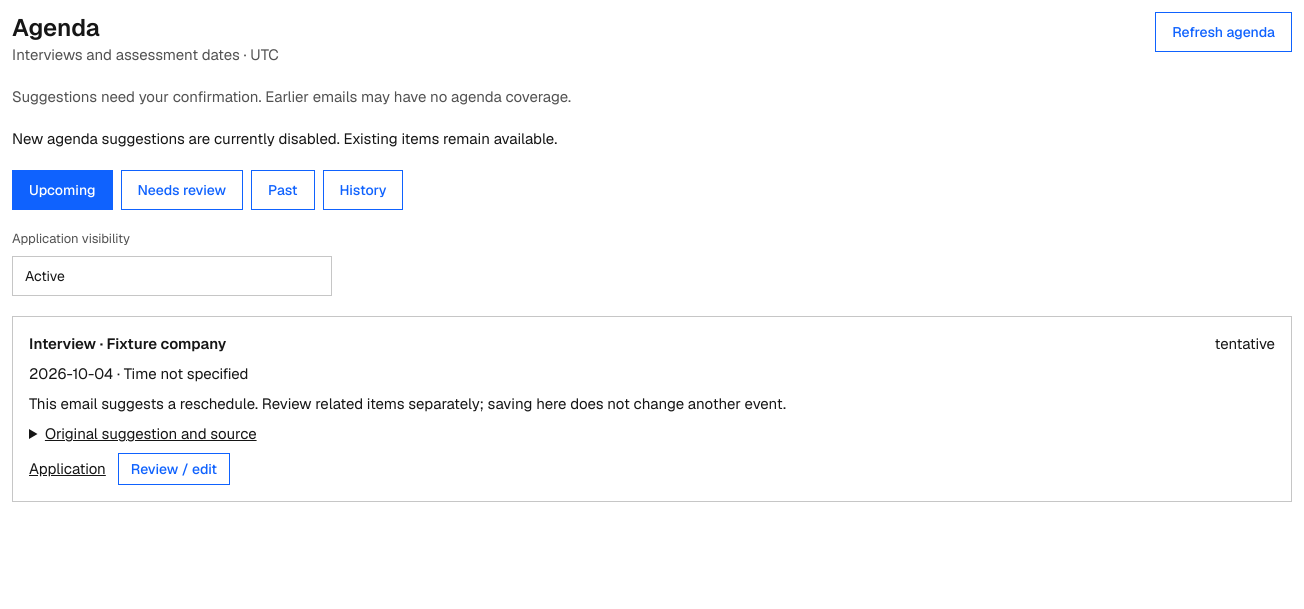
shows date precision, original evidence and separate reschedule intent
Check: the text "2026-10-04 · Time not specified" is shown, box [29,364,248,383]
Check: the text "New agenda suggestions are currently disabled" is shown, box [12,129,557,148]
What coordinates should you click on to do the following:
click the heading "Original suggestion and source"
I would click on:
 (151, 434)
Its box is [45,424,257,443].
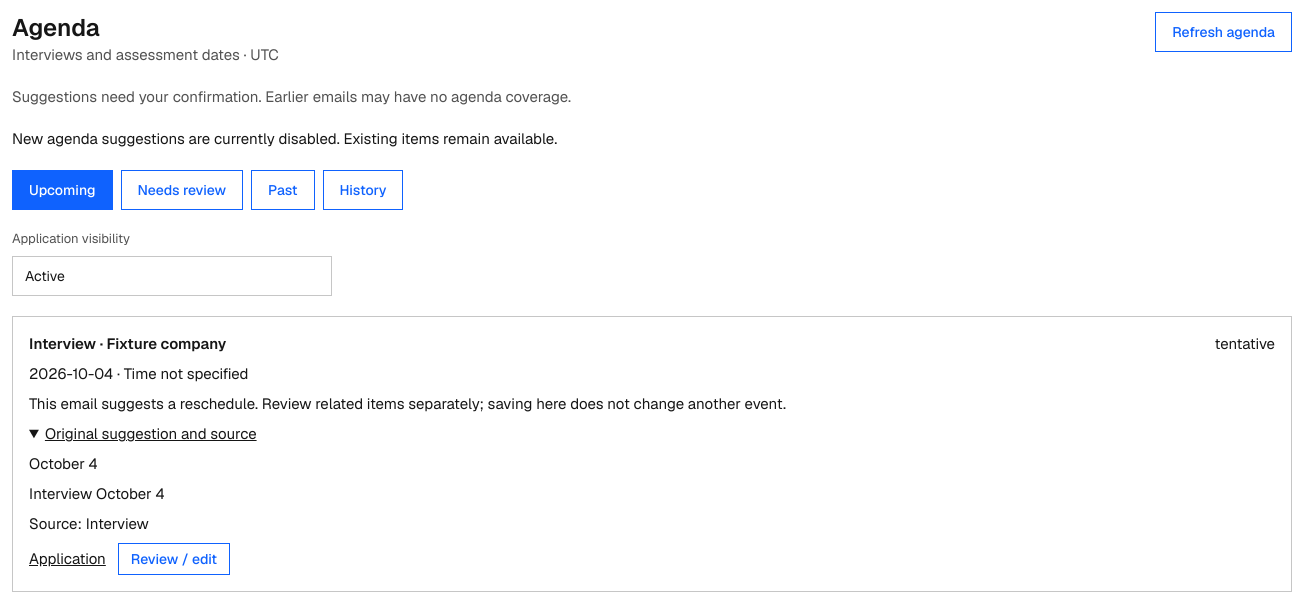
Check: the text "Interview October 4" is shown, box [29,484,165,503]
